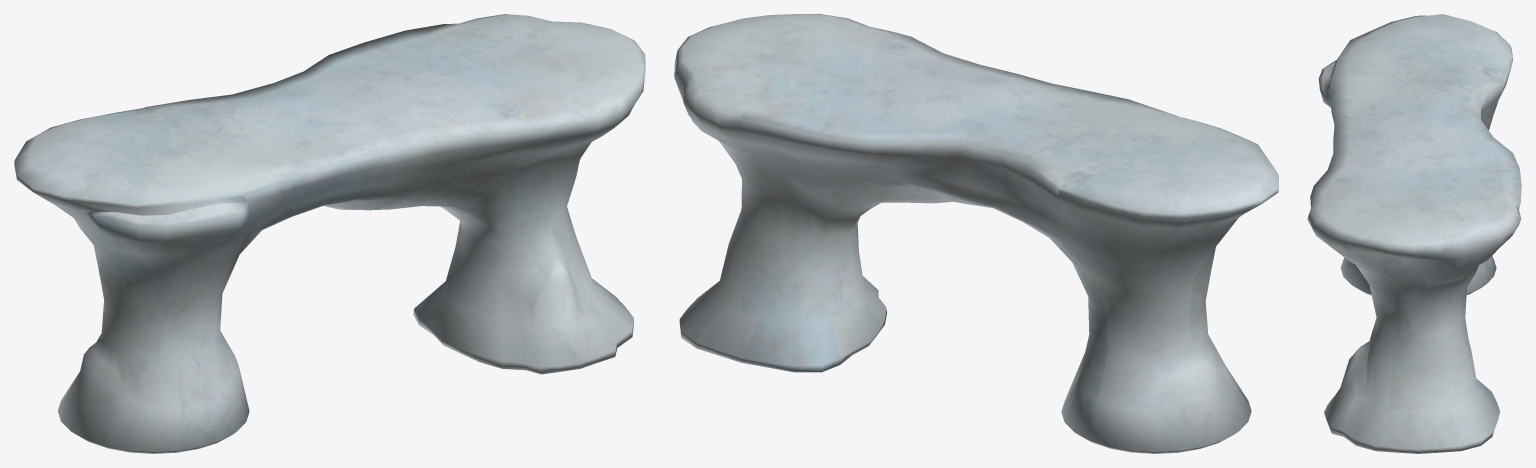
File: P_RockDesert_CliffA08.obj
The picture shows the model from 3 angles, left to right: view 1: azimuth 30°, elevation 25°; view 2: azimuth 150°, elevation 25°; view 3: azimuth 270°, elevation 25°; orthographic projection. The views are drawn at different scales.
Size of the model in its own units: 122 by 52.9 by 46.65.
